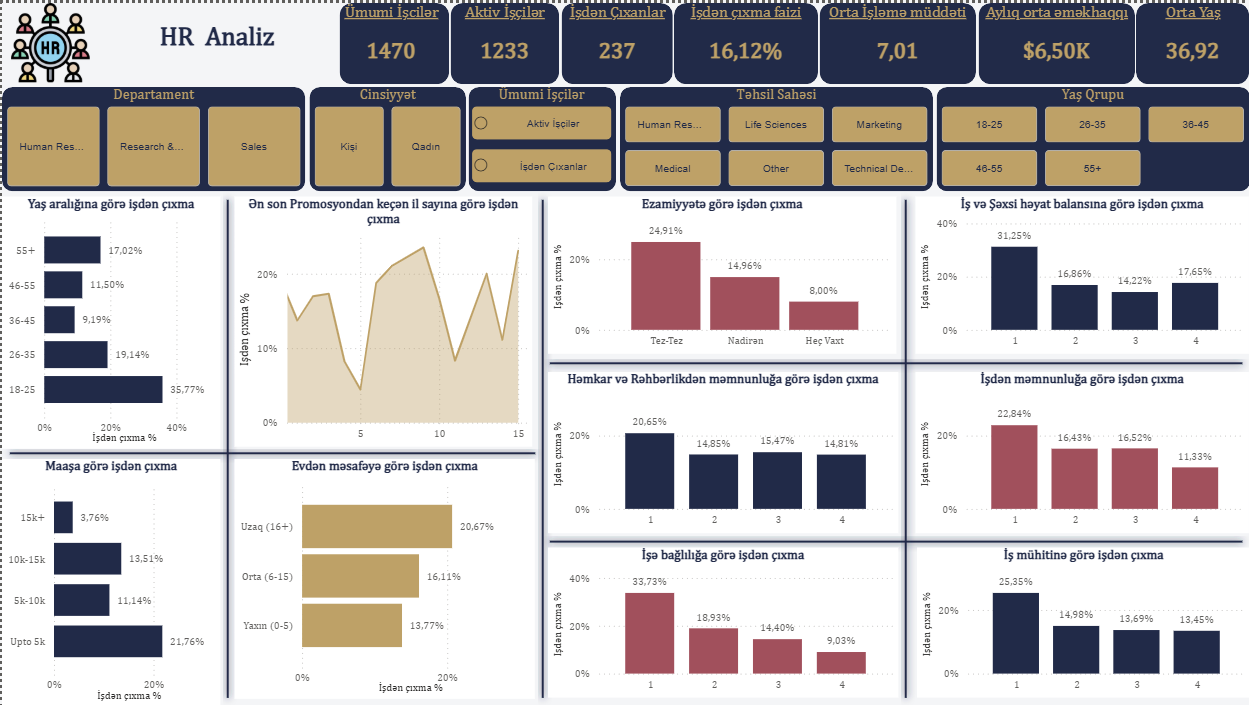

This screenshot's page, from the dashboard's own definition file:
{"tool":"powerbi","page":{"name":"Page 2","canvas":[1280,720],"ordinal":1},"visuals":[{"type":"shape","box":[1001.1,0,160.5,83.4],"z":0},{"type":"shape","box":[459.7,0,111.5,83.4],"z":1000},{"type":"shape","box":[0,86.1,311,107],"z":2000},{"type":"shape","box":[689.2,0,147.8,83.4],"z":3000},{"type":"shape","box":[573.1,0,114.3,83.4],"z":4000},{"type":"shape","box":[345.5,0,112.4,83.4],"z":5000},{"type":"shape","box":[1163.4,0,116.1,83.4],"z":6000},{"type":"shape","box":[314.7,86.1,160.5,107],"z":7000},{"type":"shape","box":[958.5,86.1,321.9,107],"z":8000},{"type":"shape","box":[633.9,86.1,321,107],"z":9000},{"type":"cardVisual","title":"Orta Yaş","fields":{"Data":["HR_Analytics.Average Age"]},"box":[1163.4,0,117,83.4],"z":10000},{"type":"cardVisual","title":"Aylıq orta əməkhaqqı","fields":{"Data":["HR_Analytics.Average Monthly Income"]},"box":[1001.1,0,160.5,83.4],"z":11000},{"type":"cardVisual","title":"İşdən çıxma faizi","fields":{"Data":["HR_Analytics.Attrition Rate %"]},"box":[689.2,0,147.8,83.4],"z":12000},{"type":"advancedSlicerVisual","fields":{"Values":["HR_Analytics.Department"]},"box":[0,86.1,311,107],"z":13000},{"type":"advancedSlicerVisual","fields":{"Values":["HR_Analytics.Gender"]},"box":[314.7,86.1,160.5,107],"z":14000},{"type":"advancedSlicerVisual","fields":{"Values":["HR_Analytics.AgeGroup"]},"box":[958.5,86.1,321,107],"z":15000},{"type":"advancedSlicerVisual","fields":{"Values":["HR_Analytics.EducationField"]},"box":[633.9,86.1,321,107],"z":16000},{"type":"cardVisual","title":"Aktiv İşçilər","fields":{"Data":["HR_Analytics.Active Employees"]},"box":[459.7,0,111.5,83.4],"z":17000},{"type":"cardVisual","title":"Ümumi İşcilər","fields":{"Data":["HR_Analytics.Total Employees"]},"box":[343.7,0,112.4,83.4],"z":18000},{"type":"cardVisual","title":"İşdən Çıxanlar","fields":{"Data":["HR_Analytics.Attrition Count"]},"box":[573.1,0,114.3,83.4],"z":19000},{"type":"image","box":[0,0,99,81],"z":20000},{"type":"textbox","box":[99.1,0,244.4,86.1],"z":21000},{"type":"shape","box":[838.8,0,160.5,83.4],"z":22000},{"type":"cardVisual","title":"Orta İşləmə müddəti","fields":{"Data":["HR_Analytics.Avg Tenure (Years)"]},"box":[838.8,0,160.5,83.4],"z":23000},{"type":"shape","box":[544.1,193.1,19.9,526.9],"z":24000},{"type":"shape","box":[478.8,86.1,151.4,107],"z":25000},{"type":"listSlicer","title":"Ümumi İşçilər","fields":{"Values":["HR_Analytics.Attrition_AZ"]},"box":[477,86.1,153.2,107],"z":26000},{"type":"shape","box":[554.1,541.4,726.3,21.8],"z":27000},{"type":"shape","box":[554.1,360,726.3,19],"z":28000},{"type":"clusteredColumnChart","title":"İş mühitinə görə işdən çıxma","fields":{"Category":["HR_Analytics.EnvironmentSatisfaction"],"Y":["HR_Analytics.Attrition Rate %"]},"box":[938,559,342,154],"z":29000},{"type":"clusteredColumnChart","title":"İşə bağlılığa görə işdən çıxma","fields":{"Category":["HR_Analytics.JobInvolvement"],"Y":["HR_Analytics.Attrition Rate %"]},"box":[560,559,359,154],"z":30000},{"type":"shape","box":[917.7,193.1,19.9,526.9],"z":31000},{"type":"clusteredColumnChart","title":"Həmkar və Rəhbərlikdən məmnunluğa görə işdən çıxma","fields":{"Category":["HR_Analytics.RelationshipSatisfaction"],"Y":["HR_Analytics.Attrition Rate %"]},"box":[560.4,379,359.1,165],"z":32000},{"type":"clusteredColumnChart","title":"İşdən məmnunluğa görə işdən çıxma","fields":{"Category":["HR_Analytics.JobSatisfaction"],"Y":["HR_Analytics.Attrition Rate %"]},"box":[937.6,379,341.9,165],"z":33000},{"type":"clusteredColumnChart","title":"Ezamiyyətə görə işdən çıxma","fields":{"Category":["HR_Analytics.BusinessTravel"],"Y":["HR_Analytics.Attrition Rate %"]},"box":[560.4,198.6,357.3,161.4],"z":34000},{"type":"clusteredColumnChart","title":"İş və Şəxsi həyat balansına görə işdən çıxma","fields":{"Category":["HR_Analytics.WorkLifeBalance"],"Y":["HR_Analytics.Attrition Rate %"]},"box":[937.6,198.6,341.9,161.4],"z":35000},{"type":"shape","box":[0,451.6,555,19],"z":36000},{"type":"shape","box":[222.2,193.1,19.9,526.9],"z":37000},{"type":"areaChart","title":"Ən son Promosyondan keçən il sayına  görə işdən çıxma","fields":{"Category":["HR_Analytics.YearsSinceLastPromotion"],"Y":["HR_Analytics.Attrition Rate %"]},"box":[238.5,198,305.6,256.6],"z":39000},{"type":"clusteredBarChart","title":"Yaş aralığına görə işdən çıxma","fields":{"Category":["HR_Analytics.AgeGroup"],"Y":["HR_Analytics.Attrition Rate %"]},"box":[0,198.6,224,258.4],"z":40000},{"type":"clusteredBarChart","title":"Maaşa görə işdən çıxma","fields":{"Category":["HR_Analytics.SalarySlab"],"Y":["HR_Analytics.Attrition Rate %"]},"box":[0,467,224,253],"z":41000},{"type":"barChart","title":"Evdən məsafəyə görə işdən çıxma","fields":{"Category":["HR_Analytics.DistanceBand"],"Y":["HR_Analytics.Attrition Rate %"]},"box":[238.5,467,308.3,245.7],"z":41001}]}

Visuals, with their boxes in screenshot pixels (x1, y1, x2, y2), scaled from the page's 1280x720 canvas onto the 1249x705 screenshot:
shape: (977,0,1133,82)
shape: (449,0,557,82)
shape: (0,84,303,189)
shape: (673,0,817,82)
shape: (559,0,671,82)
shape: (337,0,447,82)
shape: (1135,0,1248,82)
shape: (307,84,464,189)
shape: (935,84,1248,189)
shape: (619,84,932,189)
"Orta Yaş" cardVisual: (1135,0,1248,82)
"Aylıq orta əməkhaqqı" cardVisual: (977,0,1133,82)
"İşdən çıxma faizi" cardVisual: (673,0,817,82)
advancedSlicerVisual - HR_Analytics.Department: (0,84,303,189)
advancedSlicerVisual - HR_Analytics.Gender: (307,84,464,189)
advancedSlicerVisual - HR_Analytics.AgeGroup: (935,84,1248,189)
advancedSlicerVisual - HR_Analytics.EducationField: (619,84,932,189)
"Aktiv İşçilər" cardVisual: (449,0,557,82)
"Ümumi İşcilər" cardVisual: (335,0,445,82)
"İşdən Çıxanlar" cardVisual: (559,0,671,82)
image: (0,0,97,79)
textbox: (97,0,335,84)
shape: (818,0,975,82)
"Orta İşləmə müddəti" cardVisual: (818,0,975,82)
shape: (531,189,550,704)
shape: (467,84,615,189)
"Ümumi İşçilər" listSlicer: (465,84,615,189)
shape: (541,530,1248,551)
shape: (541,352,1248,371)
"İş mühitinə görə işdən çıxma" clusteredColumnChart: (915,547,1248,698)
"İşə bağlılığa görə işdən çıxma" clusteredColumnChart: (546,547,897,698)
shape: (895,189,915,704)
"Həmkar və Rəhbərlikdən məmnunluğa görə işdən çıxma" clusteredColumnChart: (547,371,897,533)
"İşdən məmnunluğa görə işdən çıxma" clusteredColumnChart: (915,371,1248,533)
"Ezamiyyətə görə işdən çıxma" clusteredColumnChart: (547,194,895,352)
"İş və Şəxsi həyat balansına görə işdən çıxma" clusteredColumnChart: (915,194,1248,352)
shape: (0,442,542,461)
shape: (217,189,236,704)
"Ən son Promosyondan keçən il sayına  görə işdən çıxma" areaChart: (233,194,531,445)
"Yaş aralığına görə işdən çıxma" clusteredBarChart: (0,194,219,447)
"Maaşa görə işdən çıxma" clusteredBarChart: (0,457,219,704)
"Evdən məsafəyə görə işdən çıxma" barChart: (233,457,534,698)
